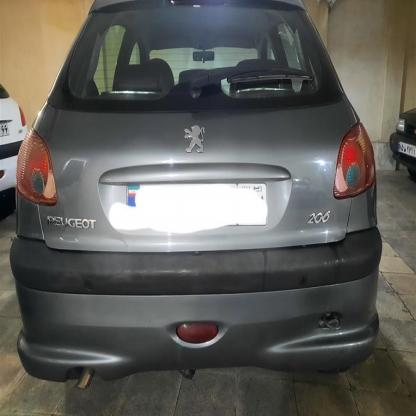Car: (17, 0, 381, 387), (0, 63, 30, 205), (390, 94, 416, 182)
